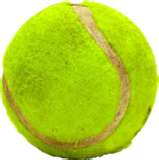tennis ball: (1, 1, 157, 160)
